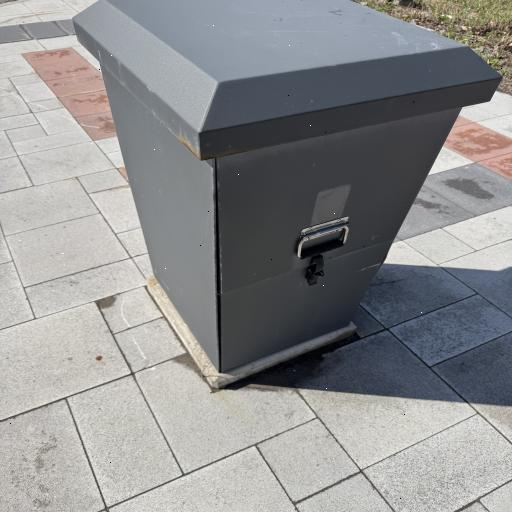Electrical Box: (69, 0, 498, 371)
